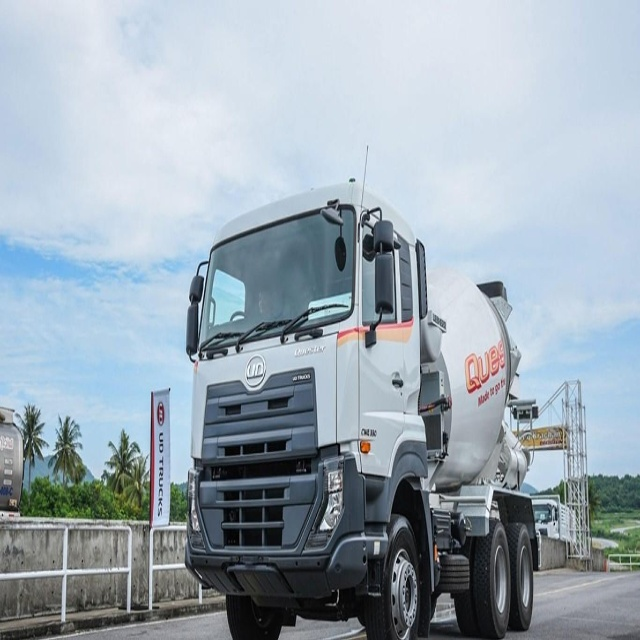Truck: (184, 176, 537, 640)
